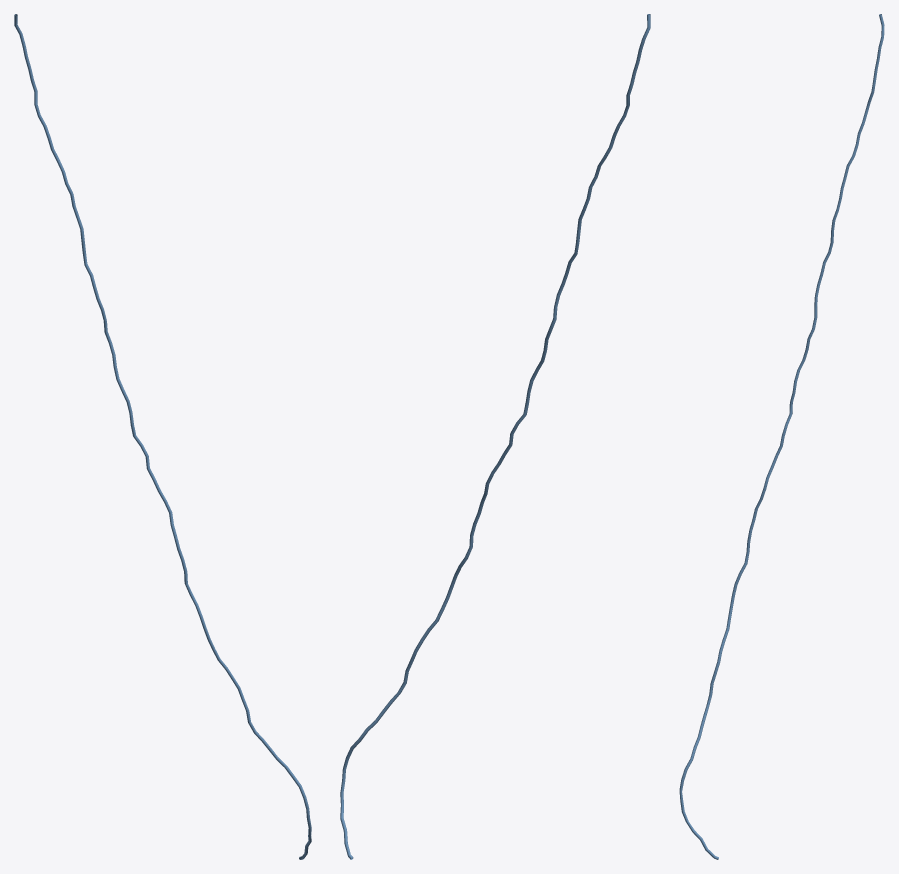
File: sweep280.fbx
The picture shows the model from 3 angles, left to right: view 1: azimuth 30°, elevation 25°; view 2: azimuth 210°, elevation 25°; view 3: azimuth 270°, elevation 25°; orthographic projection. The views are drawn at different scales.
Parts seen in each view (by area): view 1: sweep280; view 2: sweep280; view 3: sweep280.
Part boxes in pixels (<box>): sweep280: <box>14,14,311,859</box>; sweep280: <box>340,14,650,859</box>; sweep280: <box>679,14,884,859</box>.
Size of the model in its own units: 1.35 by 5.35 by 1.31.
